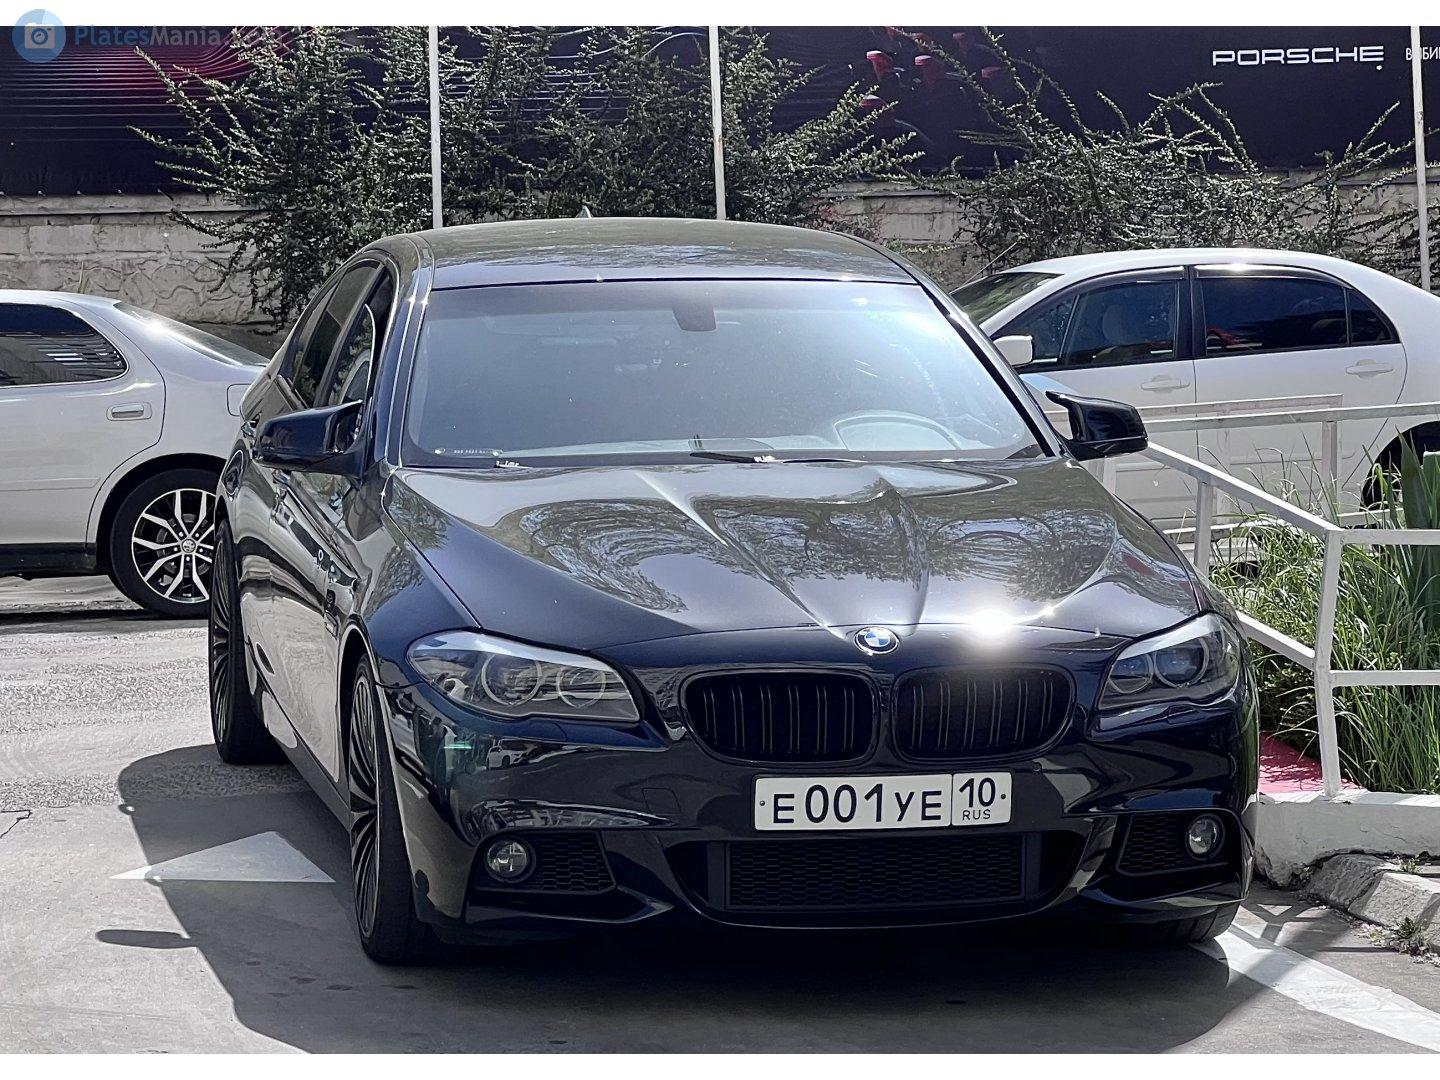license-plateSW: (752, 770, 1011, 828)
